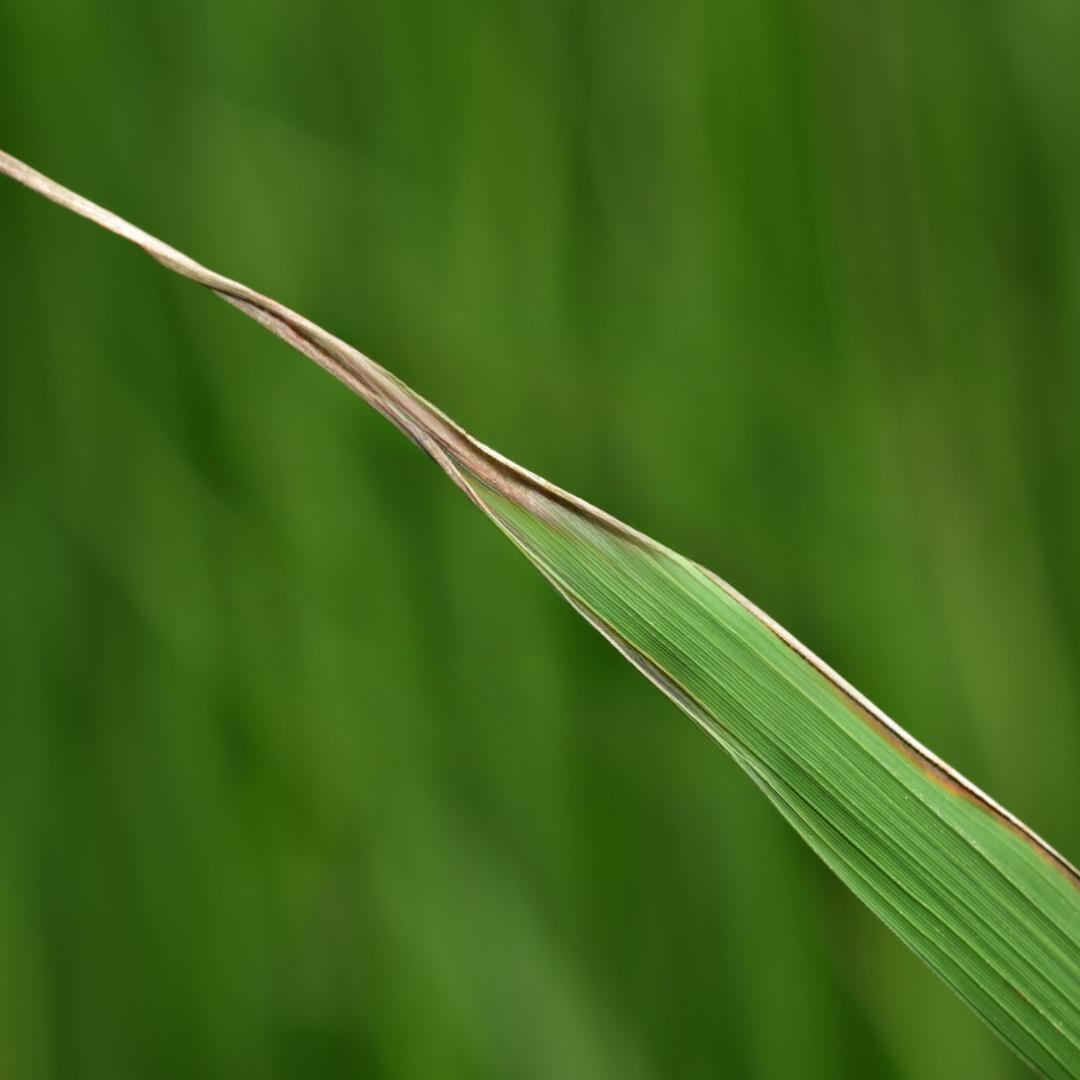BLB: (1, 151, 1079, 877)
LEAF: (1, 150, 1079, 1079)
